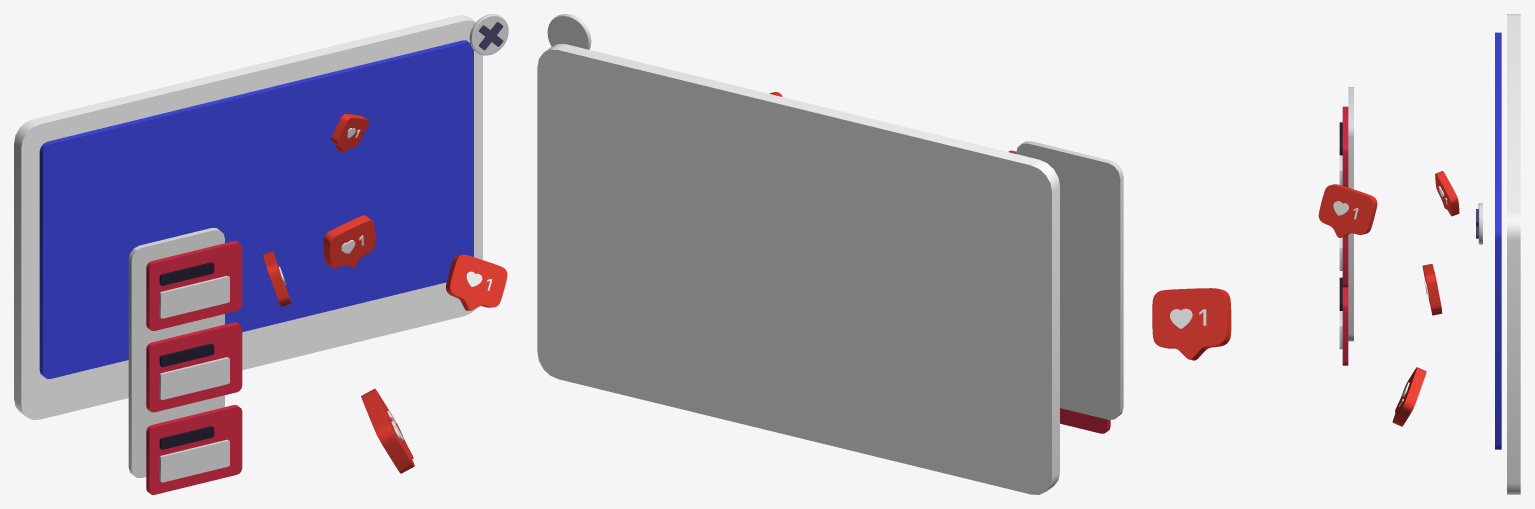
Rendered from feed.glb.
3 renders of one model, left to right at view 1: azimuth 30°, elevation 25°; view 2: azimuth 150°, elevation 25°; view 3: azimuth 270°, elevation 25°, orthographic. The views are drawn at different scales.
Visible parts, largest first — view 1: Plane.003, Video Window, Sidebar, Plane.007, Plane.008, Plane.009, like.001, like.005, like.023, like.003, Circle.005, like.002; view 2: Video Window, Sidebar, Circle.005, Plane.009; view 3: Video Window, like.023, Plane.003, like.002, Sidebar, like.001, Plane.009, Plane.007, like.003, like.005, Plane.008.
Boxes of the visible parts, <box> form: Plane.003: <box>39,40,473,378</box>; Video Window: <box>14,15,482,419</box>; Sidebar: <box>128,228,224,477</box>; Plane.007: <box>146,241,242,330</box>; Plane.008: <box>146,322,242,412</box>; Plane.009: <box>146,405,242,494</box>; like.001: <box>446,254,507,310</box>; like.005: <box>323,215,375,268</box>; like.023: <box>361,388,414,473</box>; like.003: <box>331,114,368,152</box>; Circle.005: <box>469,14,508,55</box>; like.002: <box>263,251,291,306</box>; Video Window: <box>537,44,1059,494</box>; Sidebar: <box>1016,141,1123,419</box>; Circle.005: <box>547,14,591,49</box>; Plane.009: <box>1060,408,1110,433</box>; Video Window: <box>1507,14,1520,494</box>; like.023: <box>1152,288,1231,360</box>; Plane.003: <box>1495,32,1501,449</box>; like.002: <box>1318,184,1377,237</box>; Sidebar: <box>1348,87,1353,341</box>; like.001: <box>1392,367,1426,426</box>; Plane.009: <box>1339,277,1348,365</box>; Plane.007: <box>1339,106,1348,187</box>; like.003: <box>1435,171,1459,216</box>; like.005: <box>1422,264,1442,315</box>; Plane.008: <box>1339,235,1348,287</box>.
Bounding box in the file's own units: 4.37 × 2.89 × 3.11.
